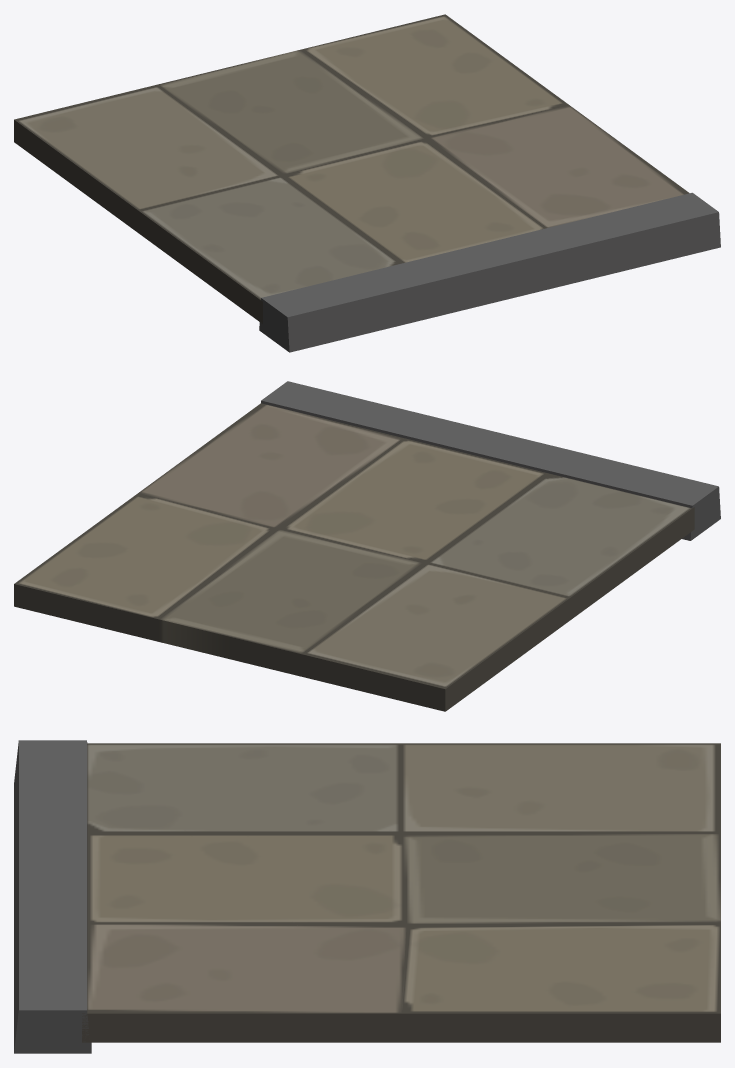
The model's file is Sidewalk_A3.fbx.
3 views of the same model, one above another, from view 1: azimuth 30°, elevation 25°; view 2: azimuth 150°, elevation 25°; view 3: azimuth 270°, elevation 25° (orthographic). The views are drawn at different scales.
Visible parts, largest first — view 1: Sidewalk_A3; view 2: Sidewalk_A3; view 3: Sidewalk_A3.
Part boxes in pixels (bbox=[...]): Sidewalk_A3: bbox=[14, 14, 720, 352]; Sidewalk_A3: bbox=[14, 381, 720, 711]; Sidewalk_A3: bbox=[14, 740, 720, 1053].
Size of the model in its own units: 400 by 30.09 by 443.
